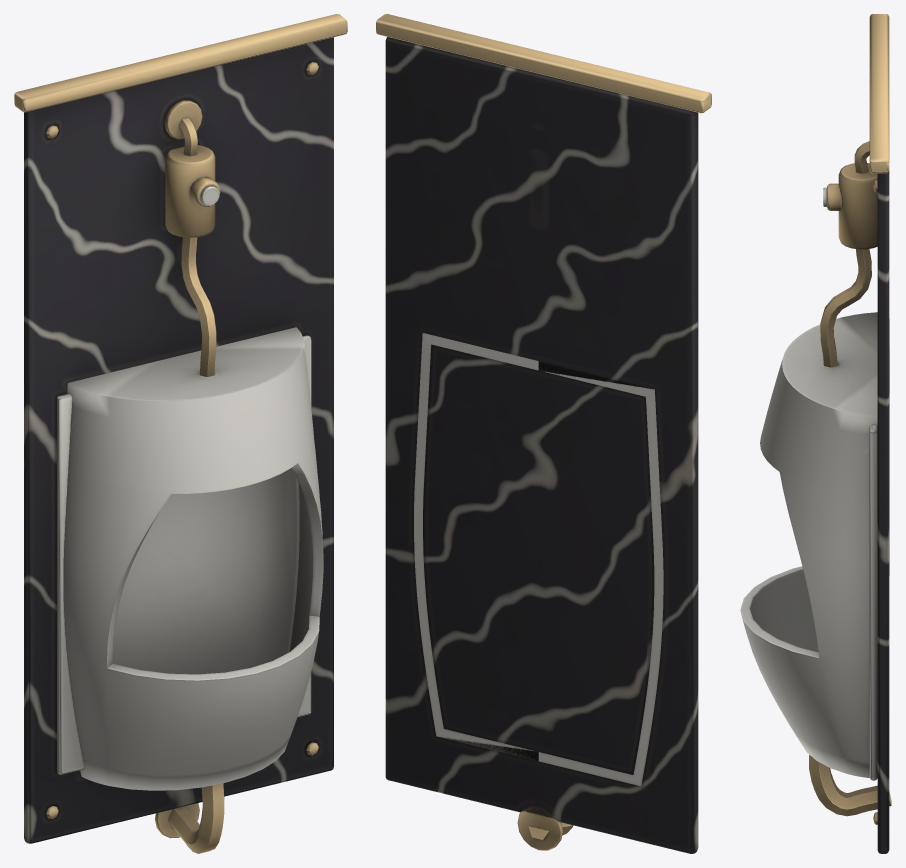
The model's file is Urinal.fbx.
3 renders of one model, left to right at view 1: azimuth 30°, elevation 25°; view 2: azimuth 150°, elevation 25°; view 3: azimuth 270°, elevation 25°, orthographic. The views are drawn at different scales.
Parts seen in each view (by area): view 1: Urinal; view 2: Urinal; view 3: Urinal.
Boxes of the visible parts, <box> form: Urinal: <box>14,14,347,853</box>; Urinal: <box>376,14,711,853</box>; Urinal: <box>740,14,891,853</box>.
Bounding box in the file's own units: 180 × 415 × 78.03.
